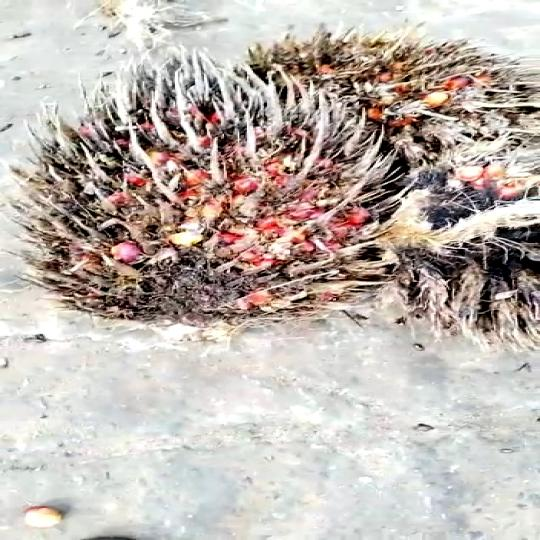terlalu masak: (0, 54, 412, 337)
